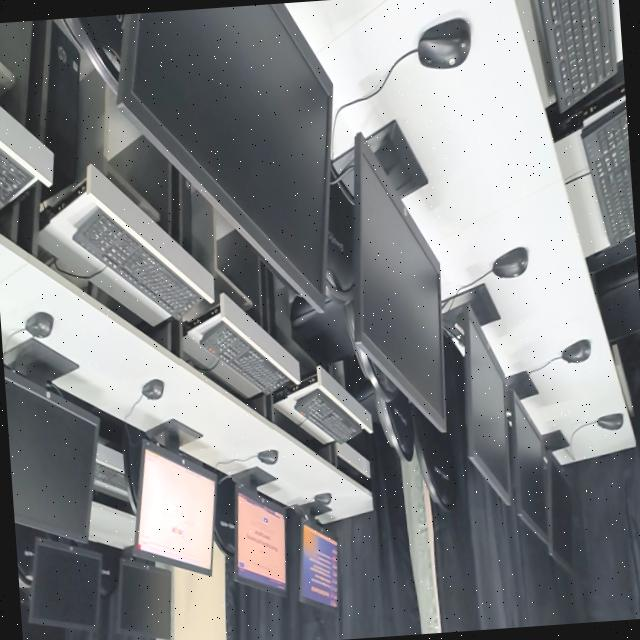Chair: (295, 298, 413, 460), (410, 403, 455, 509), (325, 184, 352, 300), (79, 13, 123, 63), (120, 422, 145, 509), (213, 472, 234, 556), (13, 524, 35, 583)
Cpu: (42, 23, 79, 196)
Keyboard: (72, 207, 201, 317), (537, 0, 616, 111), (580, 99, 635, 245), (199, 321, 285, 390), (294, 388, 360, 441), (0, 148, 32, 203)
Monitor: (115, 2, 331, 308), (347, 133, 444, 428), (2, 364, 98, 540), (505, 387, 570, 570), (459, 304, 510, 504), (137, 448, 214, 568), (29, 536, 100, 629), (116, 546, 172, 638), (235, 490, 285, 591), (299, 523, 336, 607), (547, 451, 572, 572), (18, 592, 64, 640)
Mouse: (416, 17, 469, 67), (491, 247, 527, 277), (24, 311, 52, 338), (560, 338, 590, 362), (596, 412, 622, 429), (141, 379, 163, 399), (256, 449, 277, 464), (313, 492, 330, 504)
